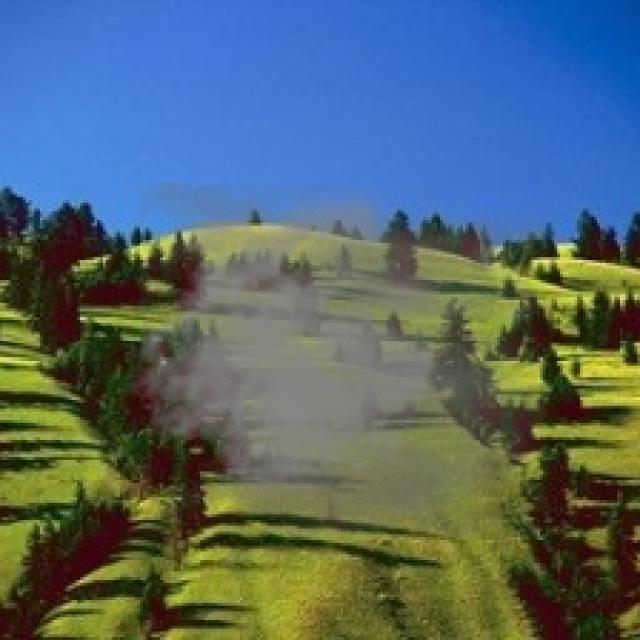Smoke: (125, 180, 546, 540)
